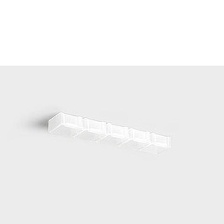plastic_box: (38, 107, 176, 160)
